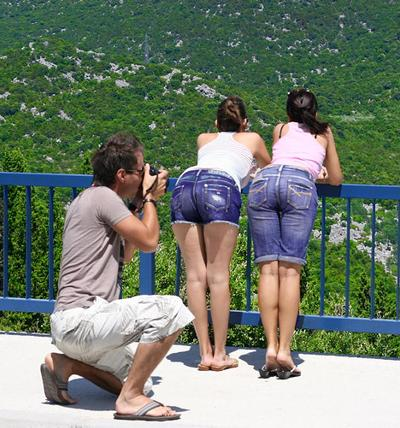person: (44, 132, 189, 417)
